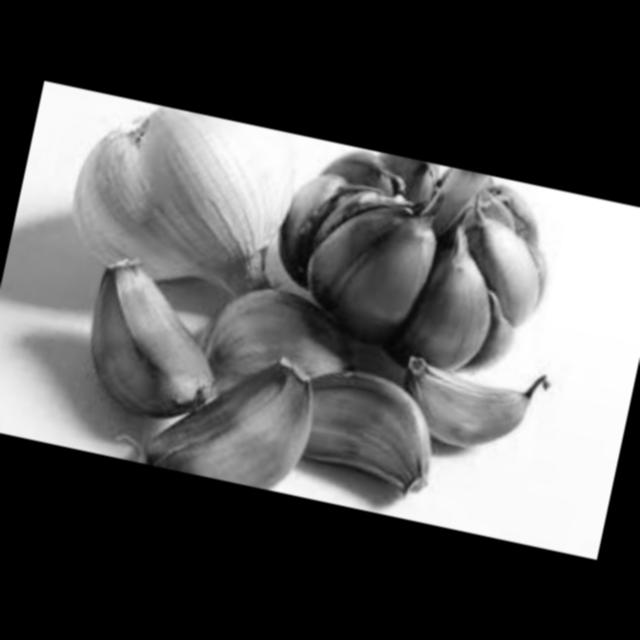garlic: (252, 133, 572, 402), (63, 91, 314, 306), (119, 326, 327, 496), (65, 246, 246, 426), (288, 364, 451, 506), (385, 342, 557, 468), (202, 280, 366, 406)
